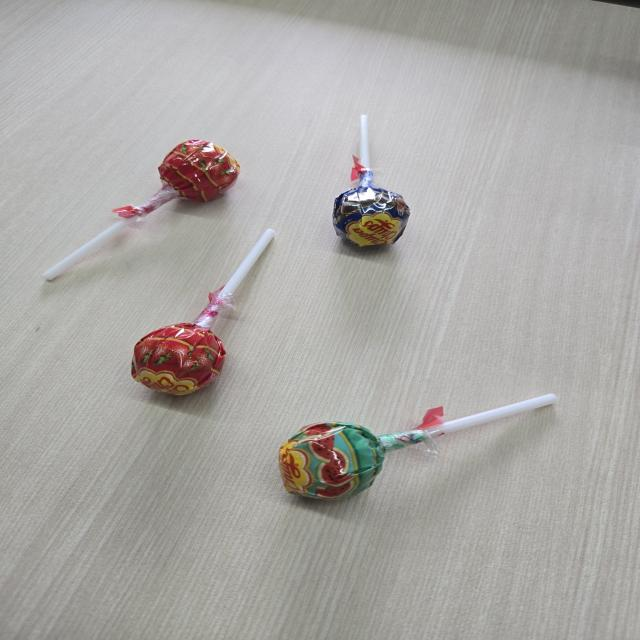lollipop: (275, 390, 562, 510), (35, 134, 244, 286), (127, 224, 282, 405), (331, 113, 414, 255)
